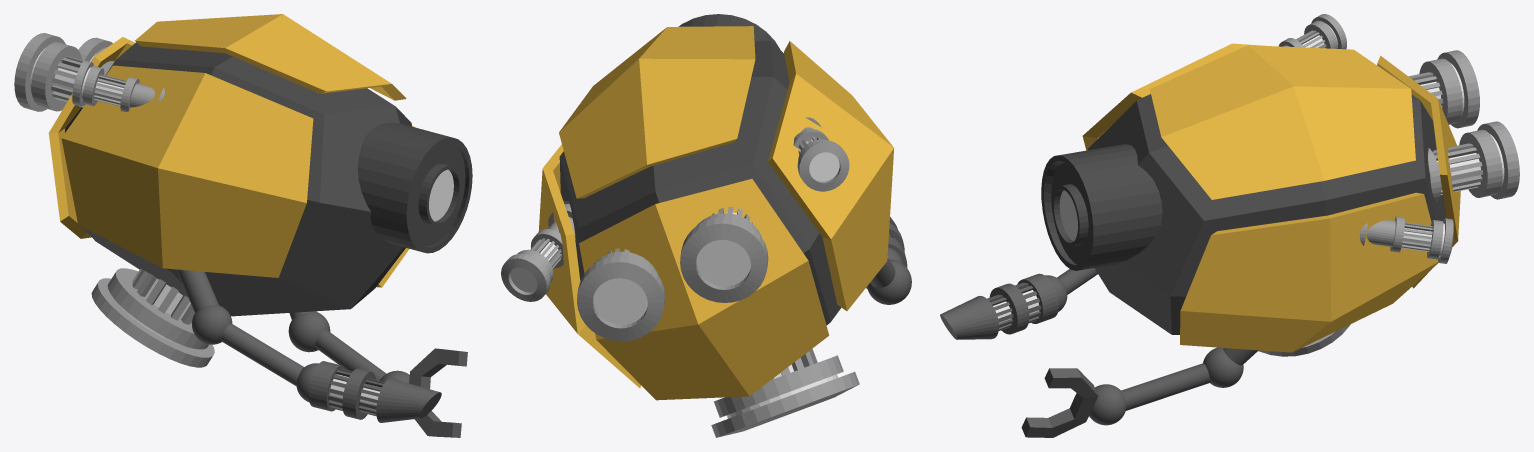
The model's file is 2.0  Virus Game Placeholder Character Model.fbx.
3 renders of one model, left to right at view 1: azimuth 30°, elevation 25°; view 2: azimuth 150°, elevation 25°; view 3: azimuth 270°, elevation 25°, orthographic. The views are drawn at different scales.
Parts seen in each view (by area): view 1: Cube.005; view 2: Cube.005; view 3: Cube.005.
Part boxes in pixels (bbox=[...]): Cube.005: bbox=[14, 14, 472, 437]; Cube.005: bbox=[501, 14, 911, 437]; Cube.005: bbox=[940, 14, 1519, 437].
Size of the model in its own units: 421 by 473 by 733.
